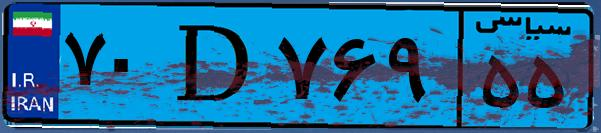0: (110, 28, 158, 98)
5: (475, 38, 525, 113), (525, 38, 570, 115)
6: (330, 28, 385, 110)
7: (270, 28, 330, 110), (57, 26, 110, 100)
9: (385, 28, 445, 110)
D: (158, 12, 270, 120)
